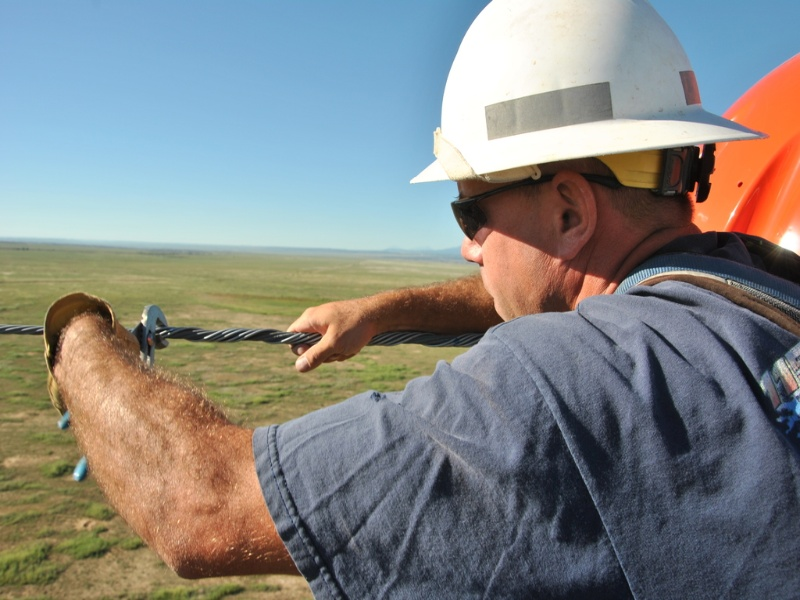Baret: (407, 2, 763, 180)
